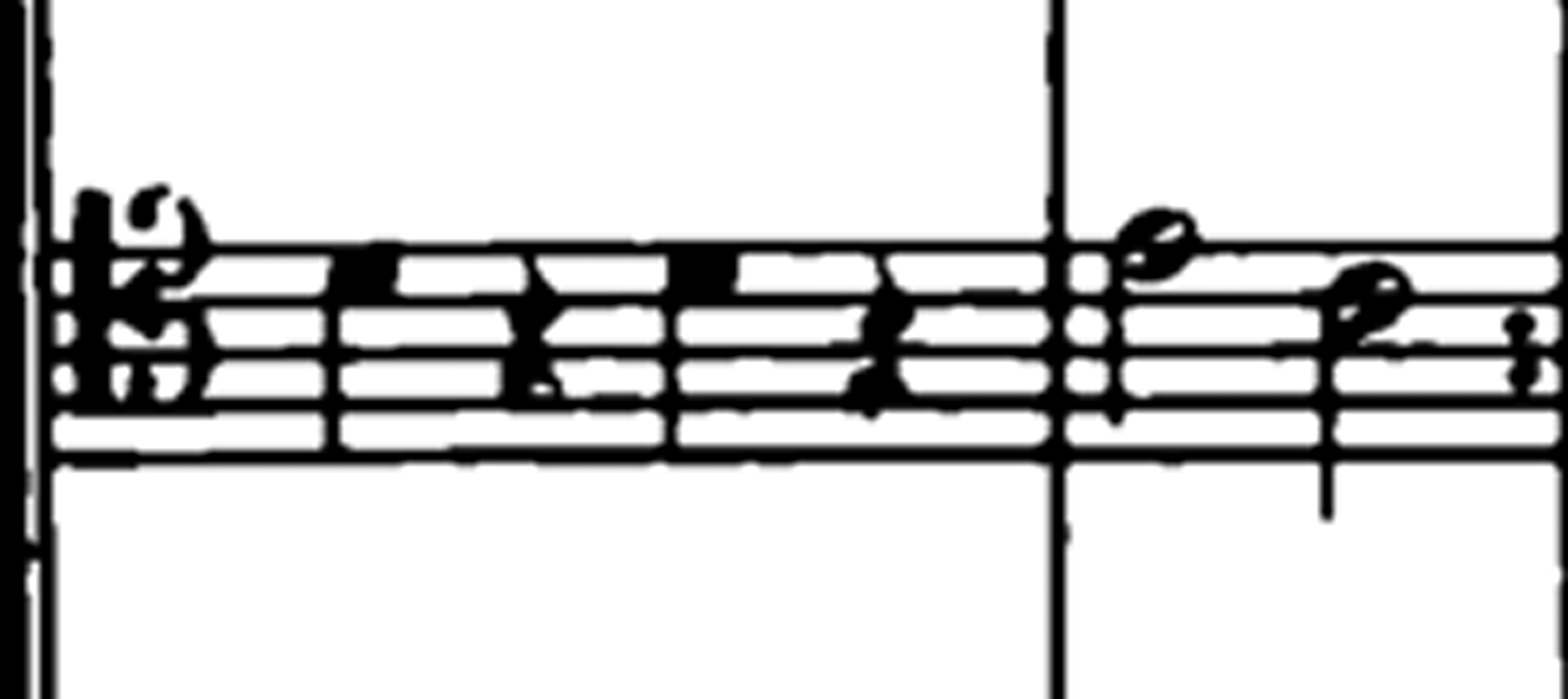clefCTenor: (58, 166, 244, 441)
noteheadBlackInSpace: (0, 674, 27, 698)
noteheadBlackOnLine: (694, 271, 734, 305)
